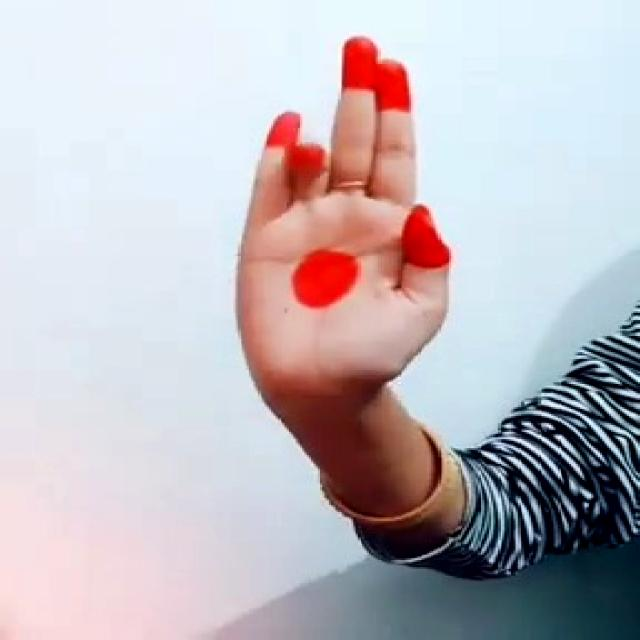Tripataka: (207, 22, 504, 414)
bangle: (302, 436, 487, 533)
